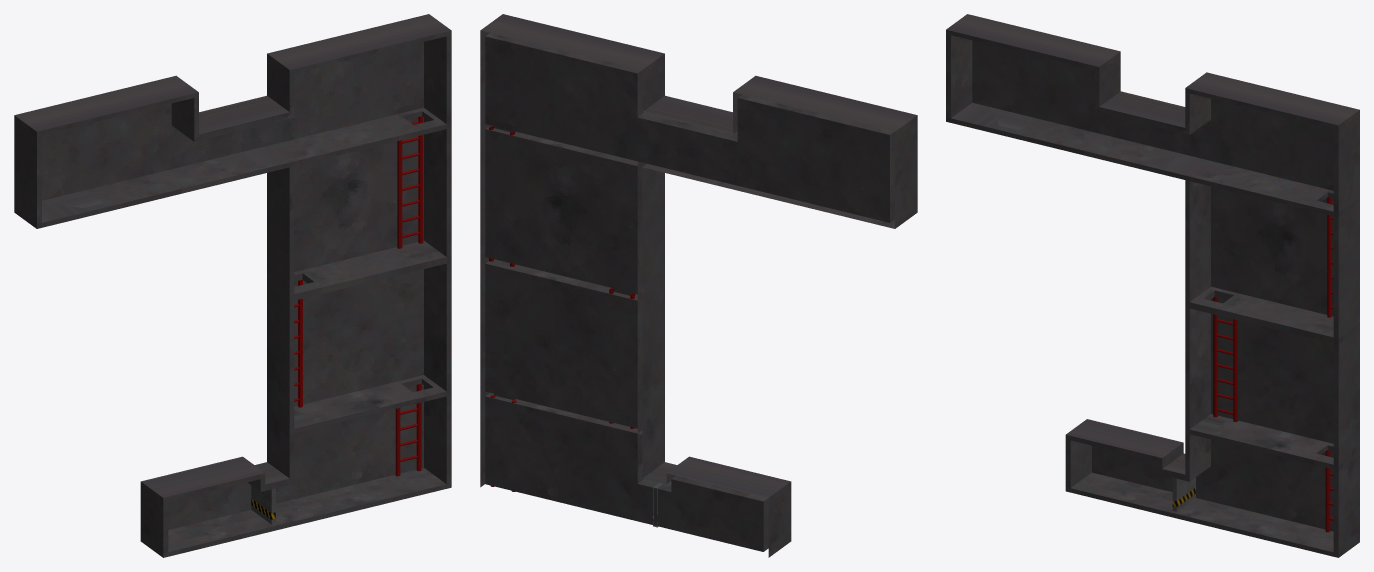
The model's file is BunkerFull.fbx.
3 views of the same model, side by side, from view 1: azimuth 30°, elevation 25°; view 2: azimuth 150°, elevation 25°; view 3: azimuth 330°, elevation 25° (orthographic). The views are drawn at different scales.
Visible parts, largest first — view 1: Walls.001, Walls, Cylinder.001, Cylinder.005, Cube, Cylinder.003; view 2: Walls.001, Walls; view 3: Walls.001, Walls, Cylinder.003, Cube, Cylinder.001.
Part boxes in pixels (box(x1,y1,x2,y2)): Walls.001: box(14, 14, 451, 553); Walls: box(14, 107, 451, 557); Cylinder.001: box(397, 116, 423, 248); Cylinder.005: box(395, 383, 421, 476); Cube: box(251, 485, 275, 524); Cylinder.003: box(294, 280, 302, 407); Walls.001: box(480, 14, 917, 552); Walls: box(480, 119, 917, 557); Walls.001: box(946, 14, 1359, 553); Walls: box(946, 102, 1359, 557); Cylinder.003: box(1213, 296, 1237, 421); Cube: box(1172, 477, 1195, 511); Cylinder.001: box(1327, 197, 1333, 317).
Size of the model in its own units: 9845 by 10366 by 948.
